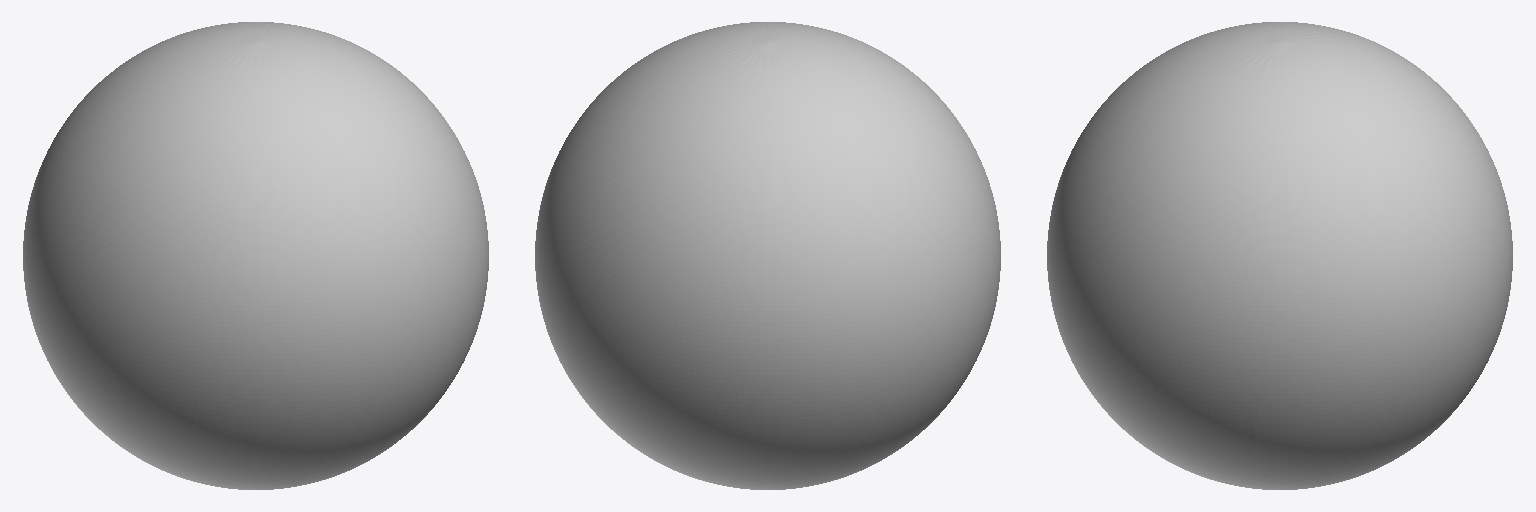
Rendered from kula.obj.
The picture shows the model from 3 angles: view 1: azimuth 30°, elevation 25°; view 2: azimuth 150°, elevation 25°; view 3: azimuth 270°, elevation 25°; orthographic projection.
Size of the model in its own units: 1.97 by 2 by 1.97.